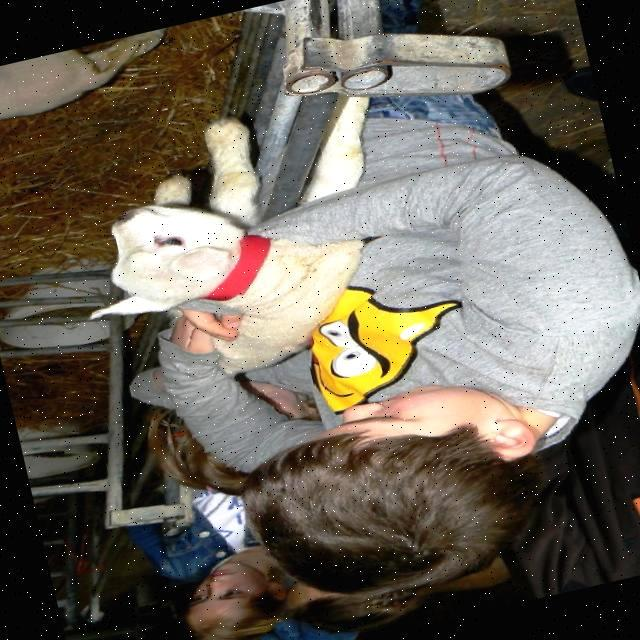sheep: (112, 96, 364, 346)
